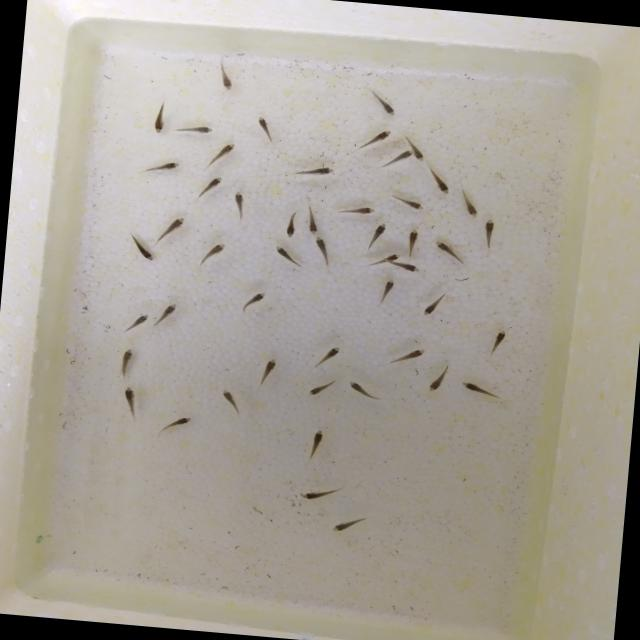fingerling: (349, 126, 392, 156), (200, 140, 236, 175), (299, 480, 348, 505), (154, 213, 186, 251), (196, 240, 228, 276), (456, 378, 506, 401), (190, 173, 223, 206), (281, 162, 335, 182), (360, 220, 388, 258), (431, 239, 469, 267), (329, 511, 373, 535), (386, 344, 426, 368), (310, 342, 342, 372), (454, 186, 482, 220), (212, 54, 237, 92), (135, 158, 182, 178), (156, 412, 192, 438), (420, 288, 451, 318), (151, 300, 180, 332), (117, 310, 150, 338), (253, 114, 279, 149), (120, 383, 142, 424), (345, 378, 383, 401), (424, 164, 452, 195), (273, 243, 305, 270), (426, 361, 452, 394), (368, 88, 398, 116), (384, 191, 426, 211), (305, 426, 326, 466), (310, 234, 334, 268), (148, 97, 170, 134), (114, 345, 136, 382), (218, 386, 245, 416), (256, 355, 278, 391), (485, 327, 509, 359), (170, 121, 214, 138), (330, 202, 376, 218), (306, 375, 338, 398), (402, 225, 422, 261), (479, 216, 498, 253), (240, 289, 266, 316), (376, 276, 396, 308), (230, 189, 248, 223), (283, 206, 301, 238), (304, 203, 322, 234), (129, 245, 157, 262), (389, 261, 422, 275), (392, 146, 414, 164), (386, 252, 402, 262), (414, 150, 427, 162)
